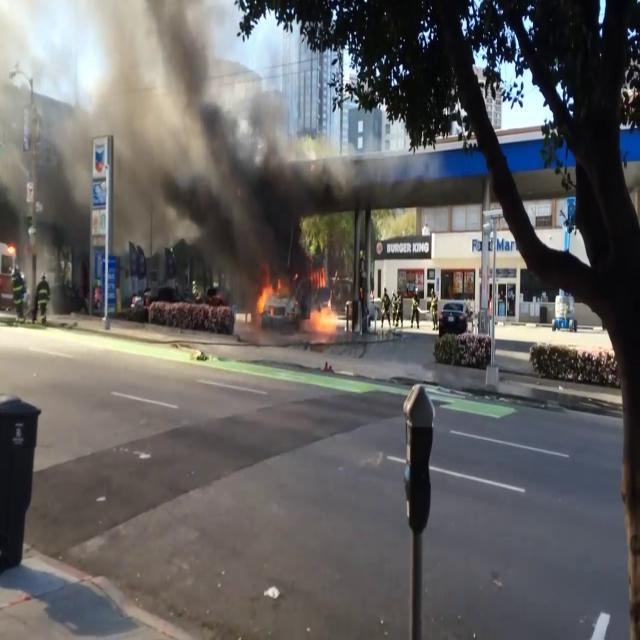Fire: (306, 293, 350, 338), (254, 274, 292, 320)
Smoke: (0, 0, 308, 281)
